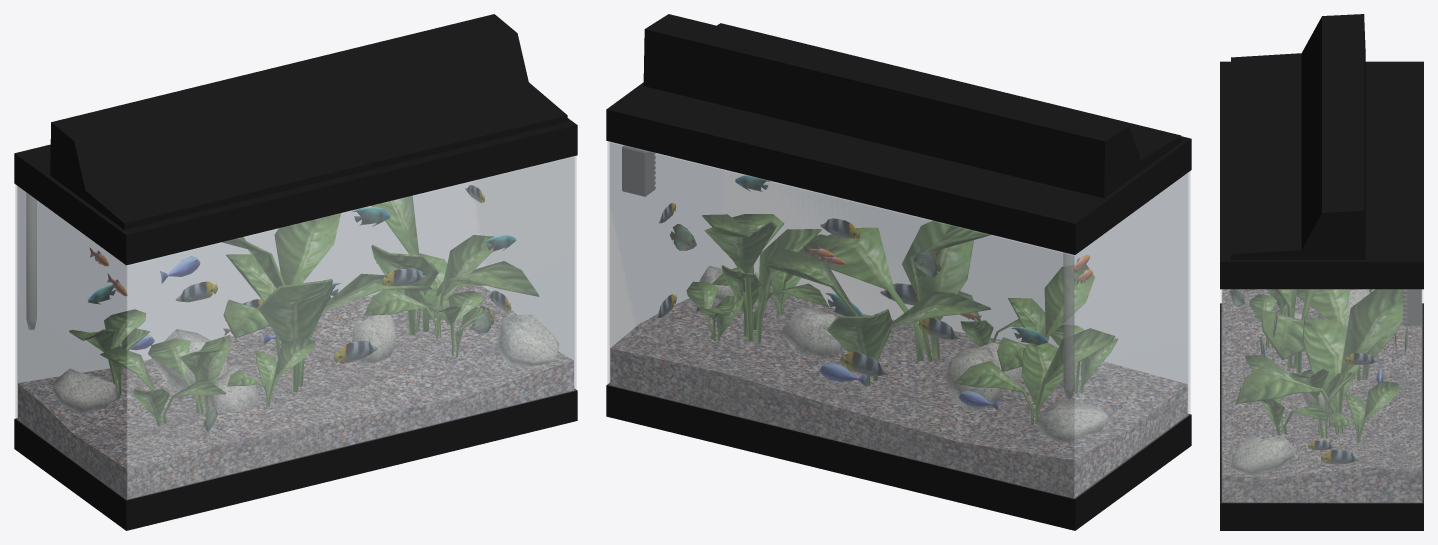
The model's file is Aquarium.fbx.
3 views of the same model, side by side, from view 1: azimuth 30°, elevation 25°; view 2: azimuth 150°, elevation 25°; view 3: azimuth 270°, elevation 25° (orthographic). The views are drawn at different scales.
Visible parts, largest first — view 1: aquarium-glass_Cube, aquarium-glass.002_Cube.009, aquarium-top_Cube.002, aquarium-glass.001_Cube.003, aquarium-base_Cube.001, Plane.032, Plane.033, Plane.031, Plane, Plane.005, Cube.002_Cube.006, Plane.004 (+9 smaller); view 2: aquarium-glass_Cube, aquarium-glass.002_Cube.009, aquarium-top_Cube.002, aquarium-glass.001_Cube.003, aquarium-base_Cube.001, Plane.032, Plane.033, Plane.031, Plane.006, Plane.005, Cube.003_Cube.007, Cube_Cube.004 (+9 smaller); view 3: aquarium-top_Cube.002, aquarium-glass_Cube, aquarium-glass.002_Cube.009, aquarium-glass.001_Cube.003, Plane.031, aquarium-base_Cube.001, Plane.032, Cube.002_Cube.006, Plane.033, Plane.002, Plane.001, Plane (+6 smaller).
Part boxes in pixels (x1,y1,x2,y2): aquarium-glass_Cube: (15,156,576,499); aquarium-glass.002_Cube.009: (17,156,574,498); aquarium-top_Cube.002: (14,14,577,265); aquarium-glass.001_Cube.003: (18,286,573,498); aquarium-base_Cube.001: (14,388,577,530); Plane.032: (222,237,431,391); Plane.033: (223,213,340,356); Plane.031: (371,196,538,335); Plane: (364,235,493,339); Plane.005: (148,335,229,413); Cube.002_Cube.006: (497,314,558,365); Plane.004: (100,347,226,425); aquarium-glass_Cube: (607,141,1190,498); aquarium-glass.002_Cube.009: (610,142,1187,497); aquarium-top_Cube.002: (606,14,1191,254); aquarium-glass.001_Cube.003: (610,287,1187,497); aquarium-base_Cube.001: (606,383,1191,530); Plane.032: (803,220,990,361); Plane.033: (764,249,990,385); Plane.031: (705,214,821,342); Plane.006: (954,328,1114,425); Plane.005: (997,264,1094,371); Cube.003_Cube.007: (1037,400,1108,443); Cube_Cube.004: (781,306,842,356); aquarium-top_Cube.002: (1220,14,1423,289); aquarium-glass_Cube: (1221,289,1422,502); aquarium-glass.002_Cube.009: (1222,289,1421,502); aquarium-glass.001_Cube.003: (1222,289,1421,502); Plane.031: (1235,289,1402,434); aquarium-base_Cube.001: (1220,303,1423,530); Plane.032: (1260,289,1319,373); Cube.002_Cube.006: (1230,435,1297,474); Plane.033: (1296,289,1402,380); Plane.002: (1329,381,1399,443); Plane.001: (1245,355,1324,435); Plane: (1289,368,1355,438).
Bounding box in the file's own units: 7021 × 5201 × 3018.
